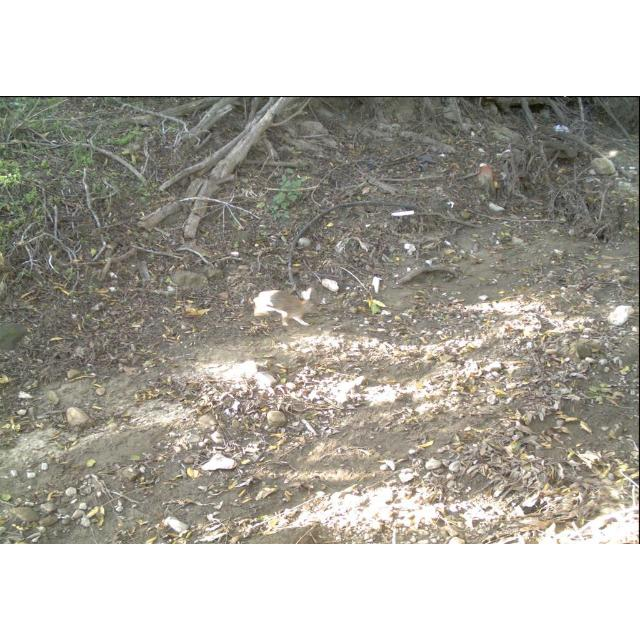animals: (246, 292, 318, 326)
